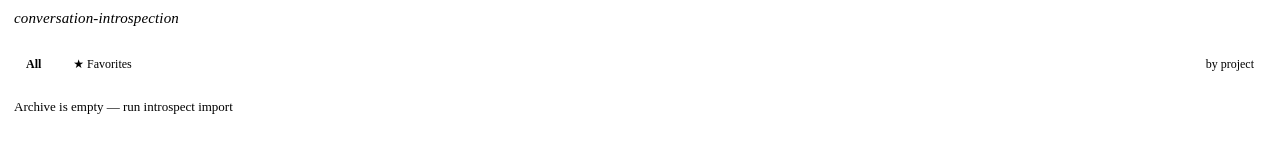
Scenario: by-project toggle › toggle click flips mode, persists, and swaps the body
Check: the element with class "convo-list" is shown, box top-left (14, 99), bottom-right (233, 114)
Click the button "by project".
click(1230, 64)  # box top-left (1194, 53), bottom-right (1266, 76)
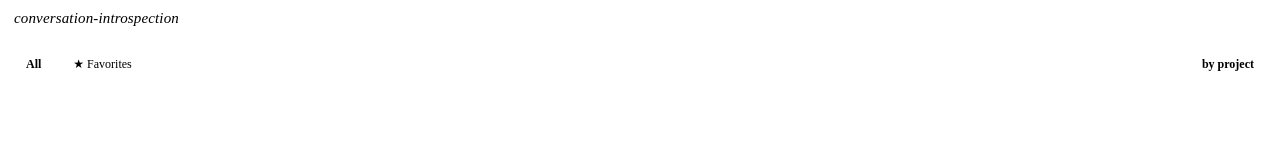
Check: the element with class "convo-list" is gone
Click the button "by project".
click(1228, 64)  # box top-left (1190, 53), bottom-right (1266, 76)
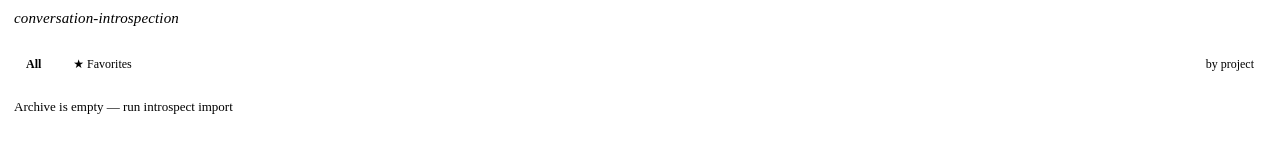
Check: the element with class "convo-list" is shown, box top-left (14, 99), bottom-right (233, 114)
